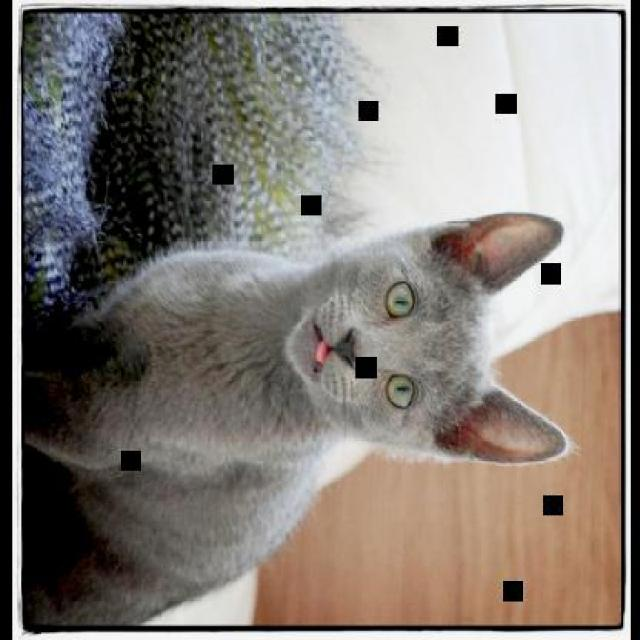unauthorized: (21, 209, 574, 626)
